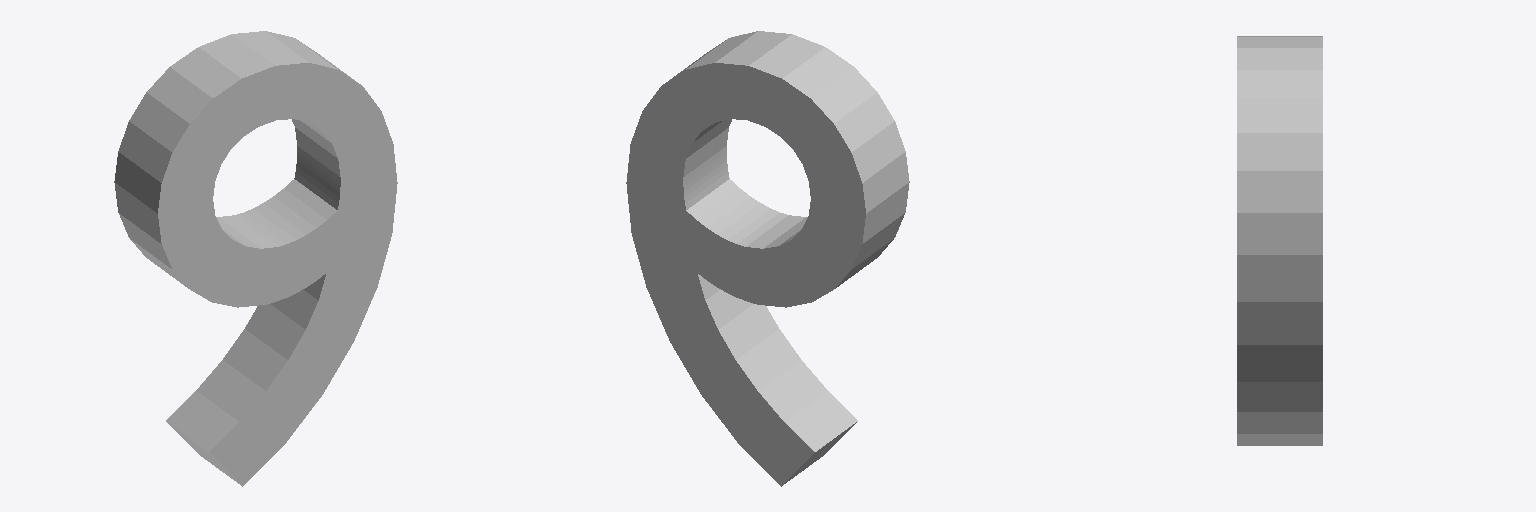
The picture shows the model from 3 angles: view 1: azimuth 30°, elevation 25°; view 2: azimuth 150°, elevation 25°; view 3: azimuth 270°, elevation 25°; orthographic projection.
Parts seen in each view (by area): view 1: テキスト.009; view 2: テキスト.009; view 3: テキスト.009.
Boxes of the visible parts, box(x1,y1,x2,y2) form: テキスト.009: box(114, 31, 397, 486); テキスト.009: box(626, 31, 909, 486); テキスト.009: box(1237, 36, 1322, 445).
Bounding box in the file's own units: 1.27 × 2.1 × 0.4.